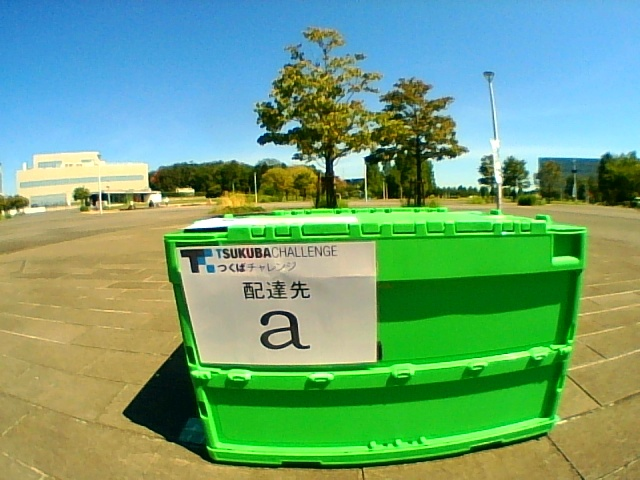green_box: (163, 207, 587, 465)
tag_a: (201, 247, 371, 362)
